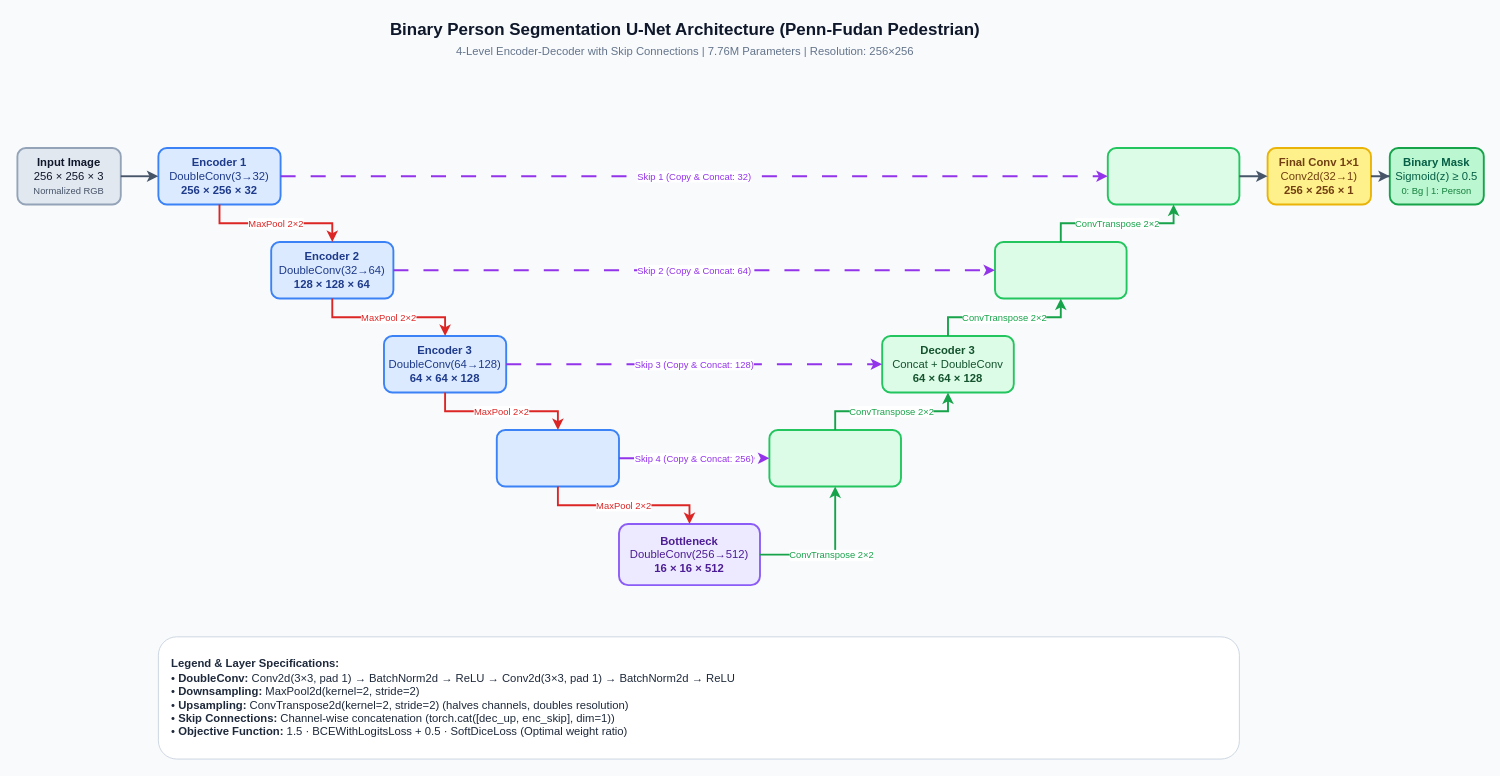
Some shapes in this 1500 by 776 pixel diagram are drawn without their labels. The shapes that lost their labels are listed below. From the top down, each one's centre as x and y in pixels, then its label:
point 1173,176: Decoder 1 Concat + DoubleConv 256 × 256 × 32
point 1060,270: Decoder 2 Concat + DoubleConv 128 × 128 × 64
point 557,458: Encoder 4 DoubleConv(128→256) 32 × 32 × 256
point 834,458: Decoder 4 Concat + DoubleConv 32 × 32 × 256
